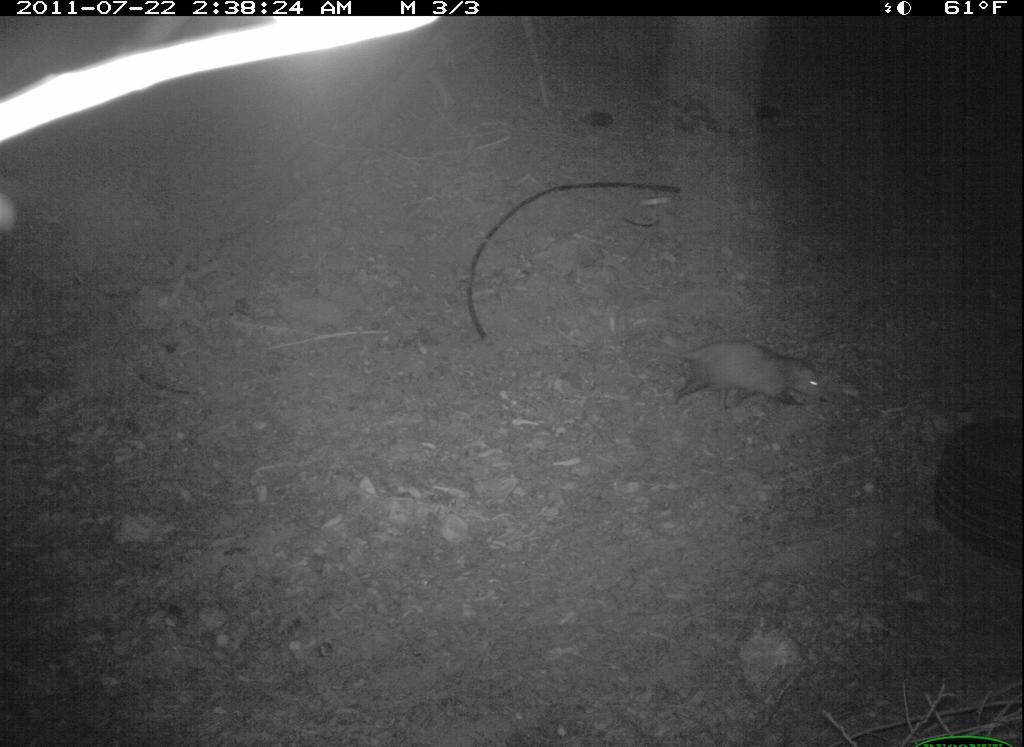opossum: (626, 326, 849, 419)
